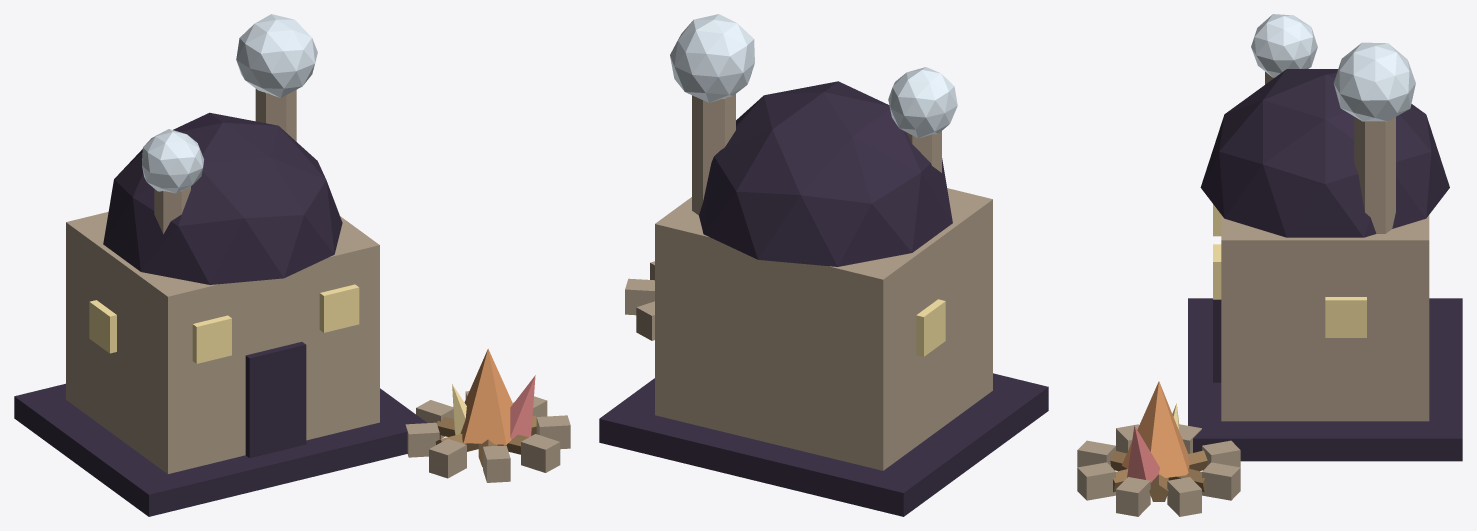
File: volcanic-landmark-s2c.glb
The picture shows the model from 3 angles, left to right: view 1: azimuth 30°, elevation 25°; view 2: azimuth 150°, elevation 25°; view 3: azimuth 270°, elevation 25°; orthographic projection. The views are drawn at different scales.
Visible parts, largest first — view 1: volcanic-landmark-s2c; view 2: volcanic-landmark-s2c; view 3: volcanic-landmark-s2c.
Boxes of the visible parts, <box> form: volcanic-landmark-s2c: <box>14,14,570,516</box>; volcanic-landmark-s2c: <box>599,14,1048,516</box>; volcanic-landmark-s2c: <box>1077,14,1462,516</box>.
Size of the model in its own units: 1.12 by 1.02 by 0.9262.
